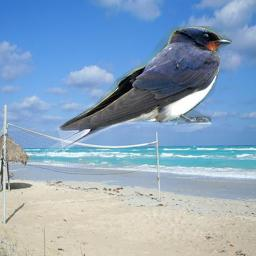Swallow: (37, 26, 232, 162)
